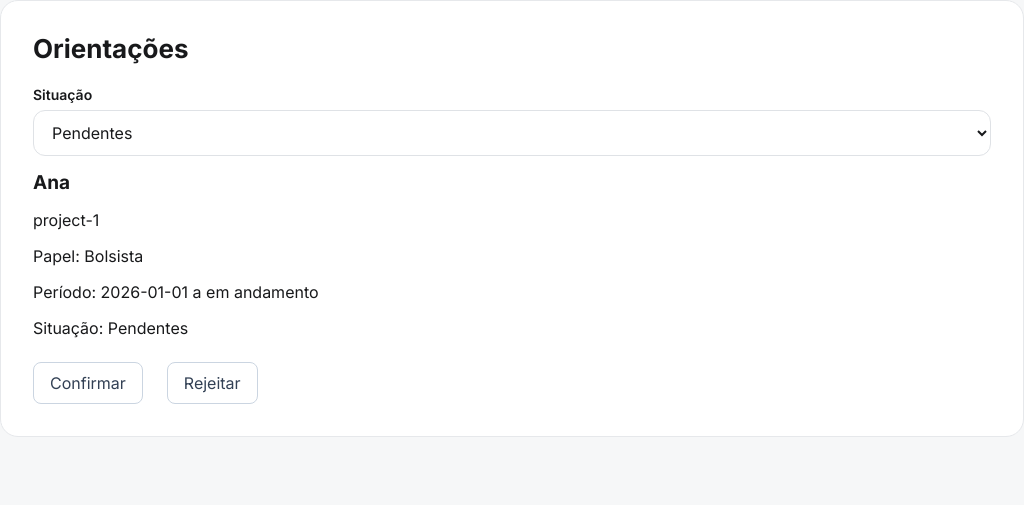
it: preserva pendência e permite repetir após falha de revisão
Click the button "Confirmar" at (88,383), box [33, 362, 143, 404]
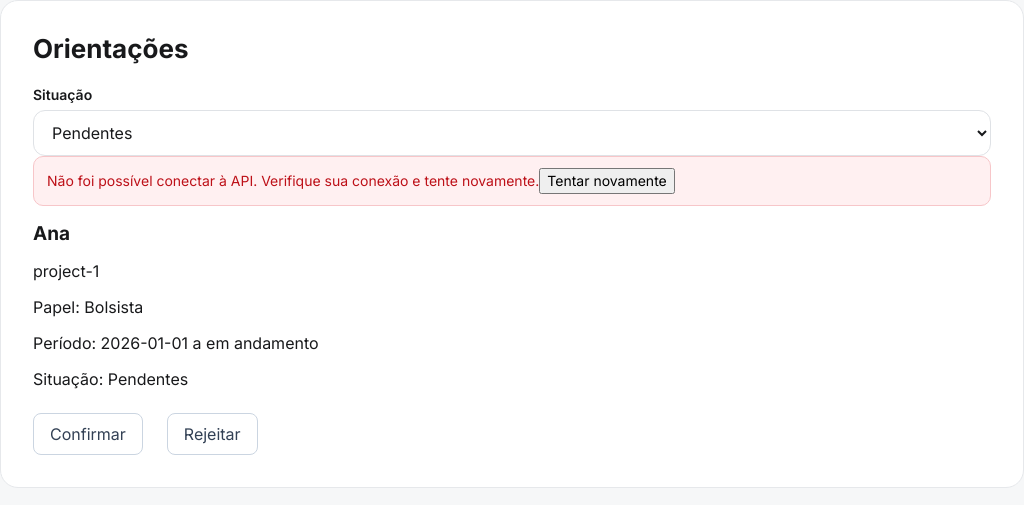
Result: the message shows "Não foi possível conectar" at [47, 172, 539, 189]
Click the button "Confirmar" at (88,434), box [33, 413, 143, 455]
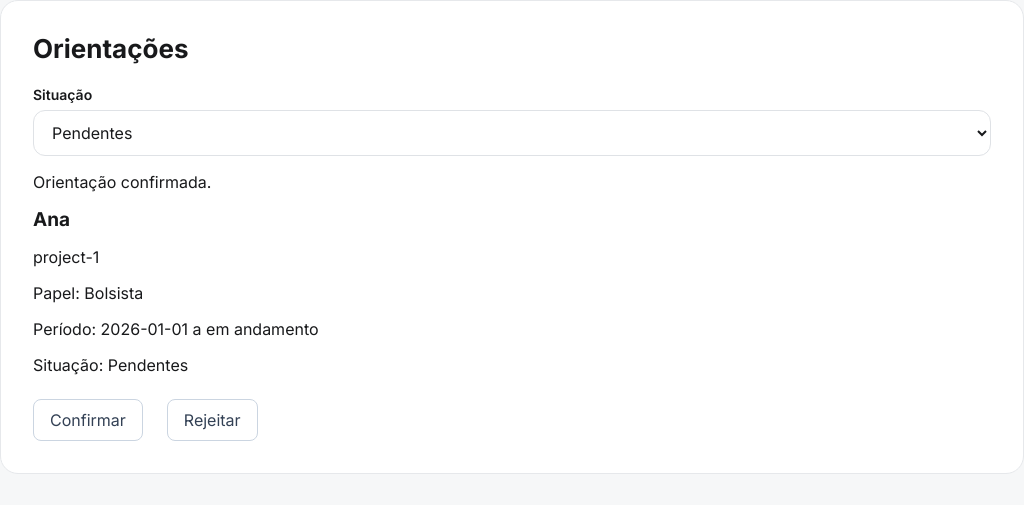
Result: the text "Orientação confirmada." is shown at [33, 172, 211, 192]
